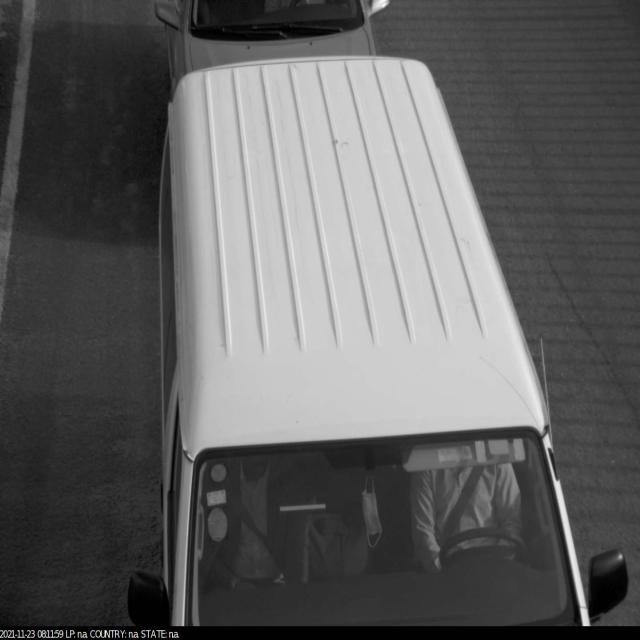windshield: (175, 419, 580, 628)
